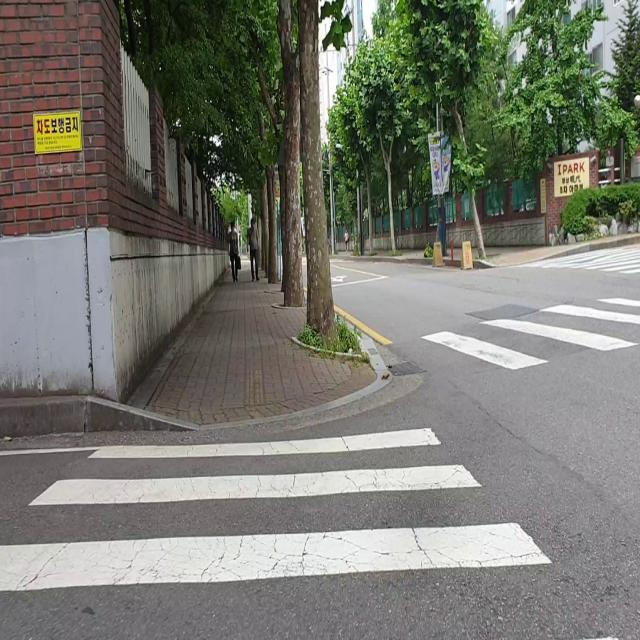횡단보도: (0, 422, 555, 594), (421, 295, 640, 372), (511, 248, 640, 284)
